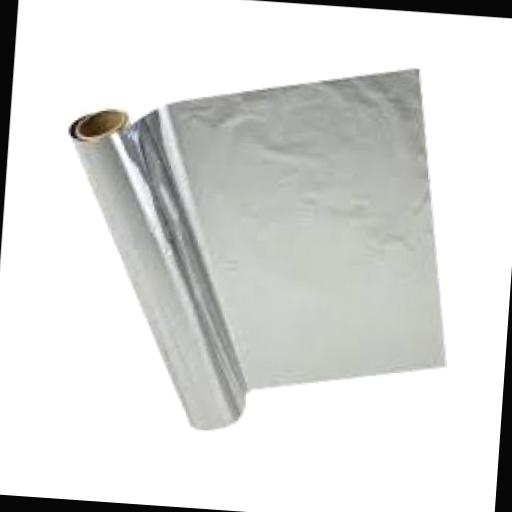metal: (47, 48, 464, 448)
